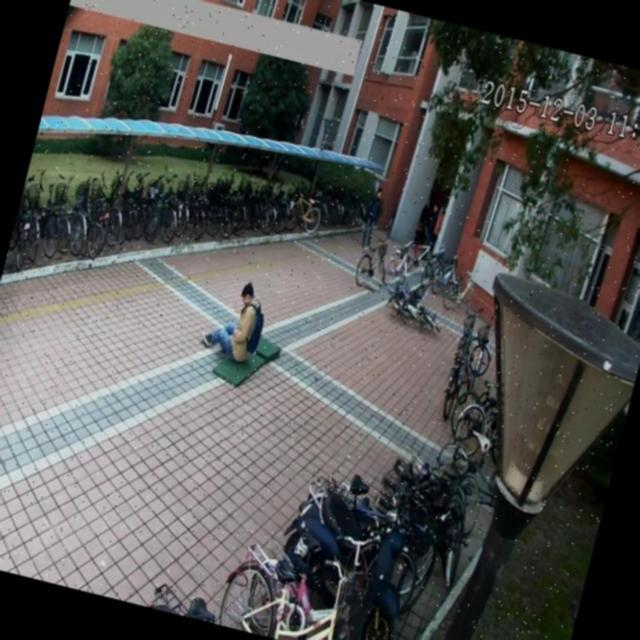person: (198, 272, 274, 372), (354, 179, 388, 251)
